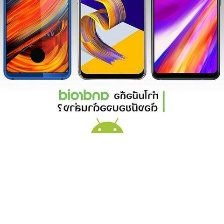phone: (147, 0, 222, 83), (0, 0, 73, 84), (75, 0, 148, 82)
